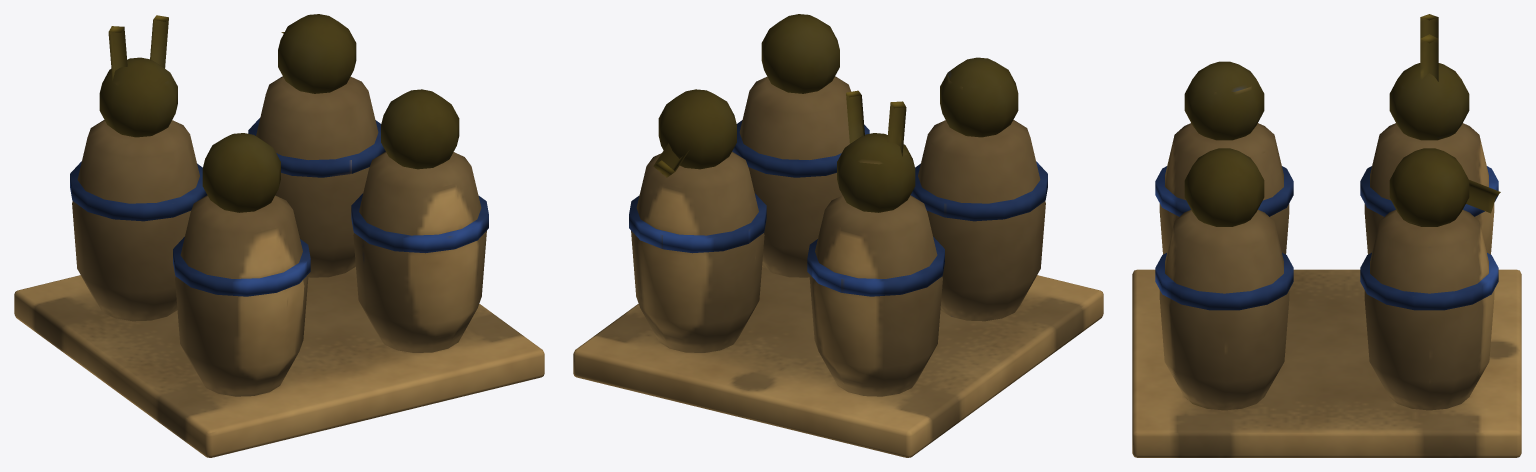
The model's file is canopic_jars.obj.
The picture shows the model from 3 angles, left to right: view 1: azimuth 30°, elevation 25°; view 2: azimuth 150°, elevation 25°; view 3: azimuth 270°, elevation 25°; orthographic projection.
Visible parts, largest first — view 1: part0, part1, part2; view 2: part0, part1, part2; view 3: part0, part1, part2.
Boxes of the visible parts, x1,y1,x2,y2 form: part0: [14, 76, 544, 457]; part1: [99, 14, 459, 212]; part2: [70, 118, 488, 296]; part0: [573, 76, 1103, 457]; part1: [653, 14, 1018, 212]; part2: [629, 120, 1047, 296]; part0: [1132, 123, 1521, 457]; part1: [1184, 14, 1500, 226]; part2: [1155, 166, 1498, 310].
Size of the model in its own units: 0.76 by 0.6615 by 0.76.
